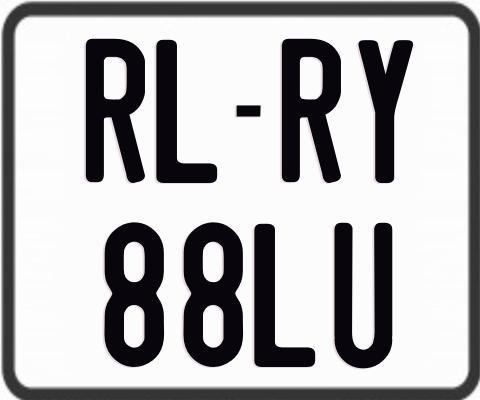8: (102, 221, 167, 369), (180, 221, 241, 369)
L: (154, 37, 221, 180), (252, 223, 314, 366)
R: (279, 36, 342, 180), (84, 39, 146, 184)
U: (334, 222, 395, 371)
Y: (355, 37, 412, 185)
